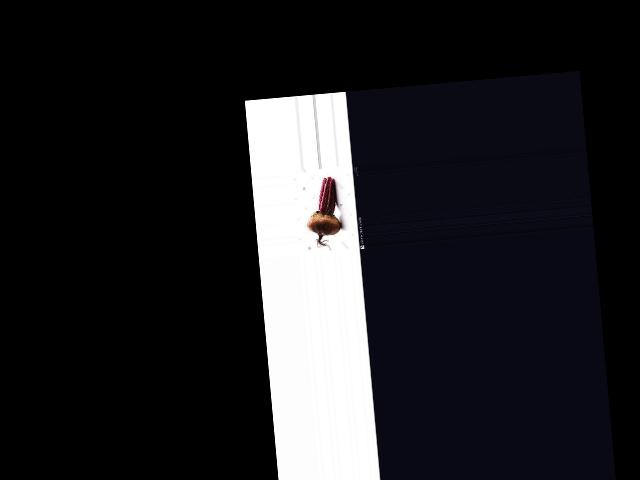beet: (303, 176, 343, 251)
